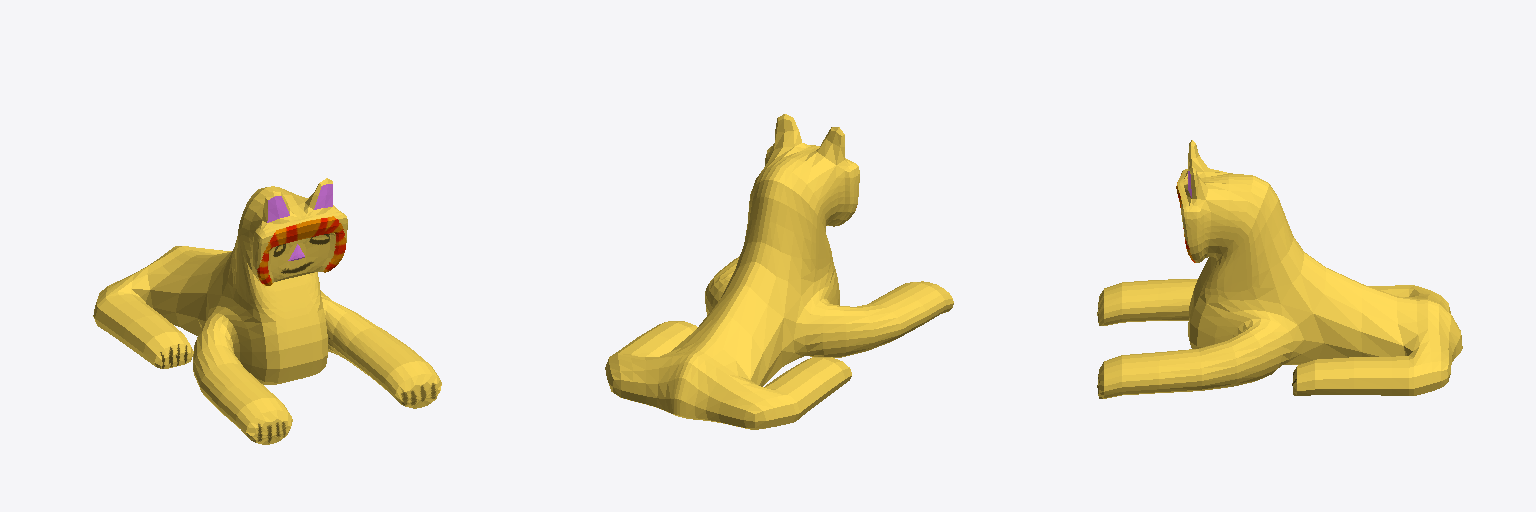
3 views of the same model, side by side, from view 1: azimuth 30°, elevation 25°; view 2: azimuth 150°, elevation 25°; view 3: azimuth 270°, elevation 25° (orthographic).
Visible parts, largest first — view 1: Cube_Cube.001; view 2: Cube_Cube.001; view 3: Cube_Cube.001.
Part boxes in pixels (left/top/right/bottom): Cube_Cube.001: left=93, top=178, right=441, bottom=444; Cube_Cube.001: left=605, top=114, right=953, bottom=429; Cube_Cube.001: left=1097, top=140, right=1462, bottom=398.
Size of the model in its own units: 43.85 by 43.71 by 69.87.
1 materials, 1 textured.